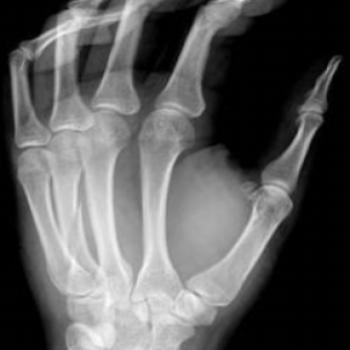Fracture: (67, 198, 87, 226)
